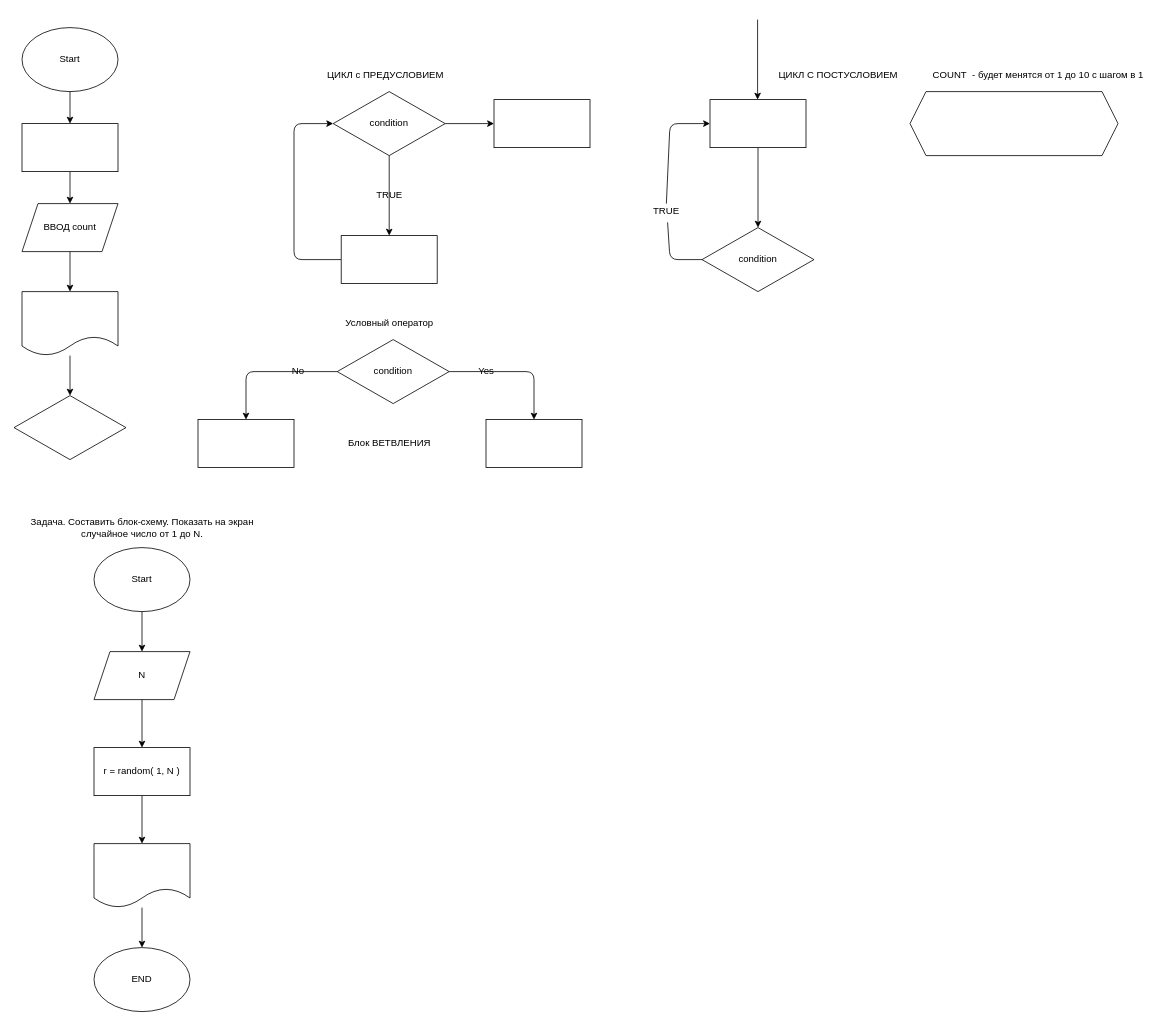
This 1164x1026 diagram has some shape labels left out. Here are the shapes that lost their labels. From the top down, the centre of each, then its label:
(x=1013, y=123): count = 1, 10, 1
(x=69, y=147): count = 0 res = 1 * Sqrt (2)
(x=69, y=323): ВЫВОД print (res)
(x=141, y=875): print r
